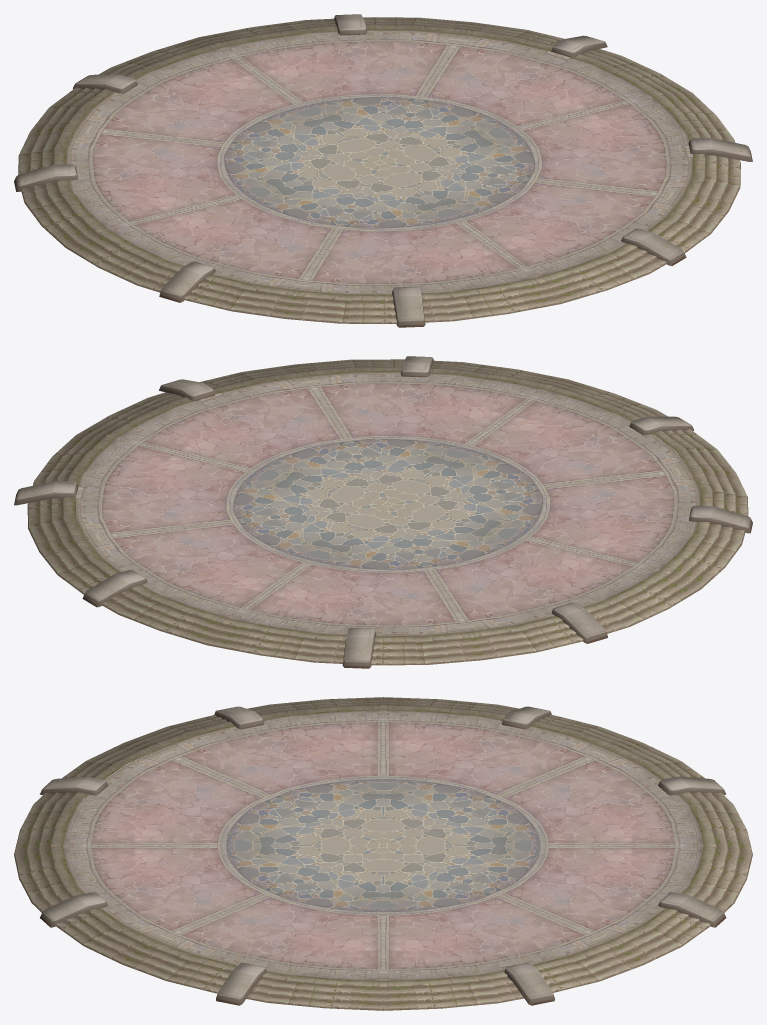
The model's file is wenquan_db_08.FBX.
3 renders of one model, top to bottom at view 1: azimuth 30°, elevation 25°; view 2: azimuth 150°, elevation 25°; view 3: azimuth 270°, elevation 25°, orthographic. The views are drawn at different scales.
Parts seen in each view (by area): view 1: wenquan_db_08; view 2: wenquan_db_08; view 3: wenquan_db_08.
Boxes of the visible parts, x1=… form: wenquan_db_08: x1=14, y1=14, x2=752, y2=327; wenquan_db_08: x1=14, y1=356, x2=752, y2=668; wenquan_db_08: x1=14, y1=697, x2=752, y2=1010.
Bounding box in the file's own units: 1744 × 39.12 × 1744.
